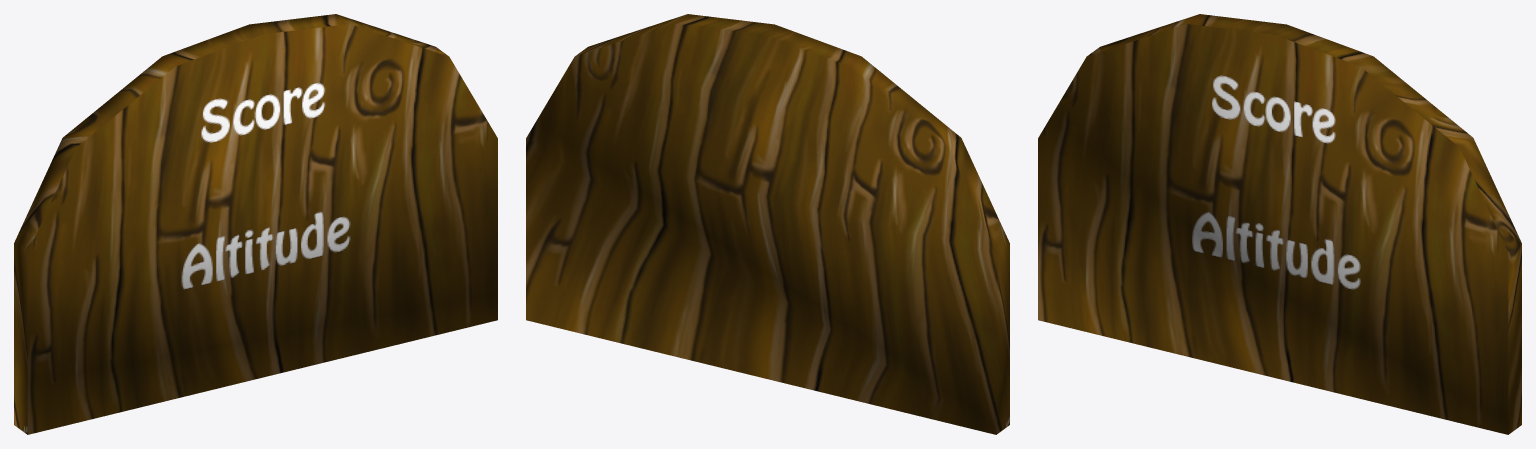
Rendered from pontos.FBX.
The picture shows the model from 3 angles, left to right: view 1: azimuth 30°, elevation 25°; view 2: azimuth 150°, elevation 25°; view 3: azimuth 330°, elevation 25°; orthographic projection.
Parts seen in each view (by area): view 1: Achievement01; view 2: Achievement01; view 3: Achievement01.
Boxes of the visible parts, <box> form: Achievement01: <box>14,14,497,434</box>; Achievement01: <box>526,14,1009,434</box>; Achievement01: <box>1038,14,1521,434</box>.
Bounding box in the file's own units: 15.5 × 10.81 × 0.775.
